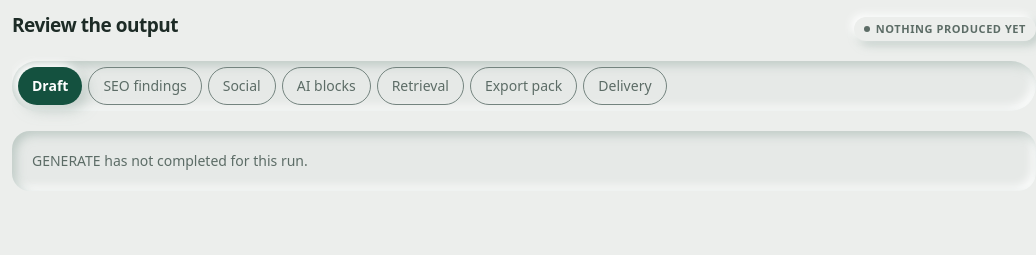
Test case: Delivery panel › says the GATE is why nothing was published, not that something failed
Click the tab "Delivery" at (625, 86), box [583, 67, 667, 105]
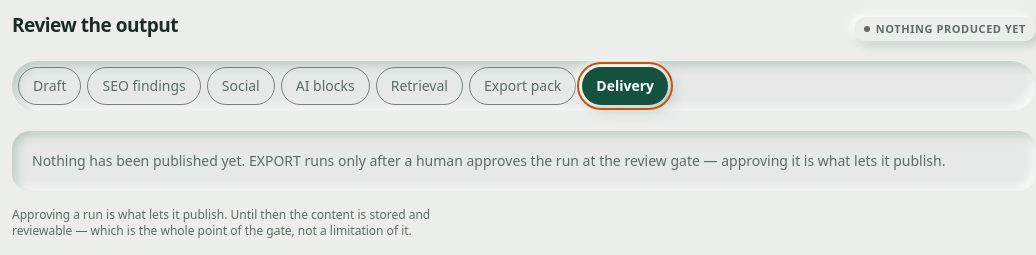
Check: the text "approves the run at the review gate" is shown, box [32, 151, 946, 170]
